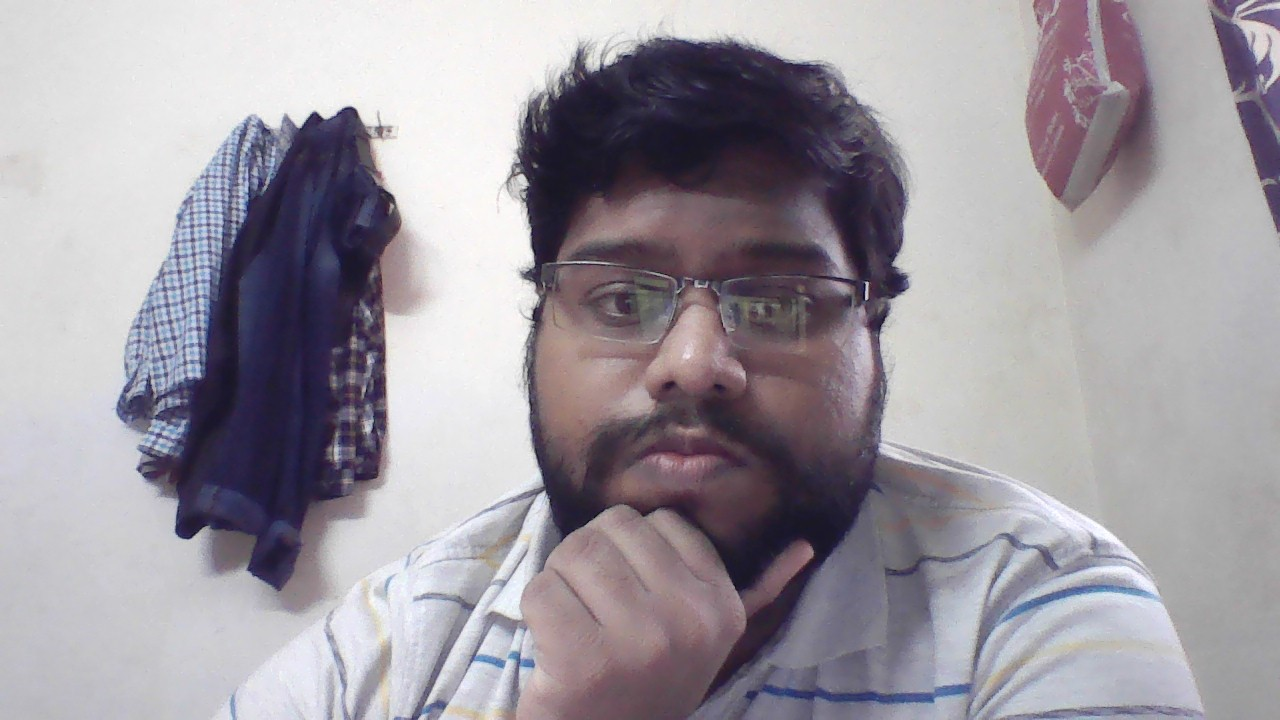NoMask: (492, 312, 941, 541)
